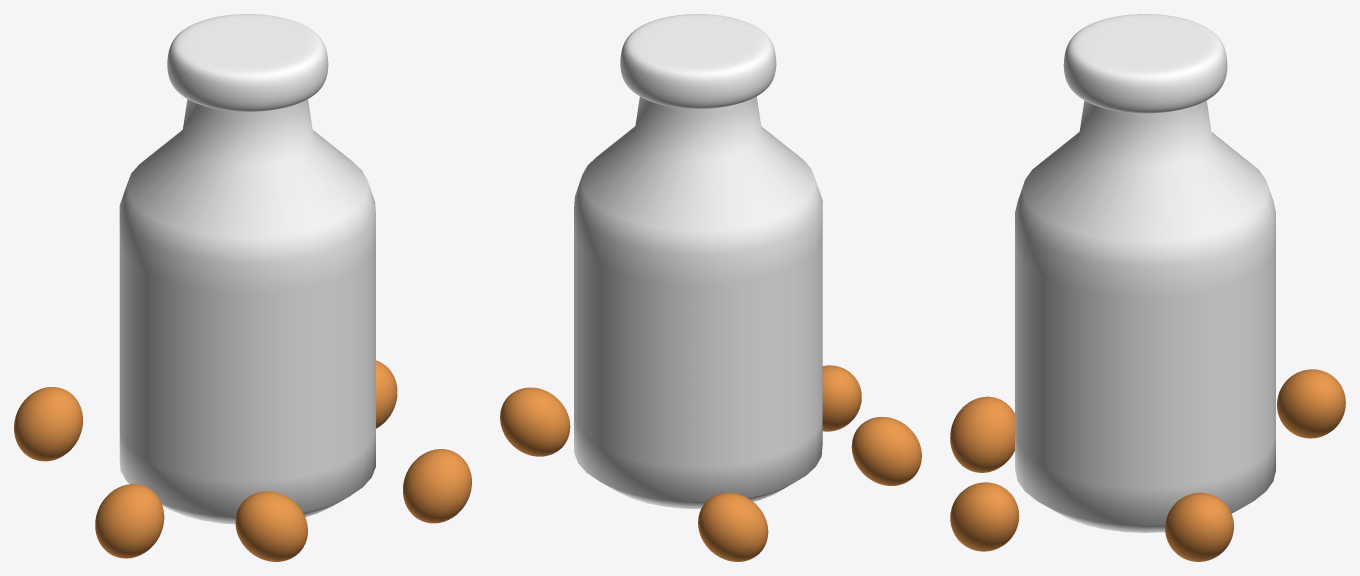
File: drink3.glb
The picture shows the model from 3 angles, left to right: view 1: azimuth 30°, elevation 25°; view 2: azimuth 150°, elevation 25°; view 3: azimuth 270°, elevation 25°; orthographic projection. The views are drawn at different scales.
Parts seen in each view (by area): view 1: Circle.086, Circle.087, Sphere.026, Sphere.027, Sphere.024, Sphere.023, Sphere.025; view 2: Circle.086, Circle.087, Sphere.025, Sphere.027, Sphere.026, Sphere.023; view 3: Circle.086, Circle.087, Sphere.023, Sphere.024, Sphere.027, Sphere.025.
Boxes of the visible parts, box(x1,y1,x2,y2) form: Circle.086: box(119, 99, 375, 524); Circle.087: box(167, 14, 328, 111); Sphere.026: box(95, 484, 164, 558); Sphere.027: box(14, 387, 82, 461); Sphere.024: box(403, 449, 471, 523); Sphere.023: box(235, 491, 307, 561); Sphere.025: box(376, 360, 397, 428); Circle.086: box(574, 96, 822, 508); Circle.087: box(620, 14, 776, 108); Sphere.025: box(500, 387, 570, 456); Sphere.027: box(698, 492, 768, 561); Sphere.026: box(851, 417, 921, 485); Sphere.023: box(822, 365, 861, 431); Circle.086: box(1015, 100, 1275, 532); Circle.087: box(1063, 14, 1227, 113); Sphere.023: box(950, 396, 1014, 472); Sphere.024: box(950, 482, 1019, 551); Sphere.027: box(1277, 369, 1345, 438); Sphere.025: box(1165, 492, 1233, 561).
Bounding box in the file's own units: 6.69 × 7.9 × 6.27.
